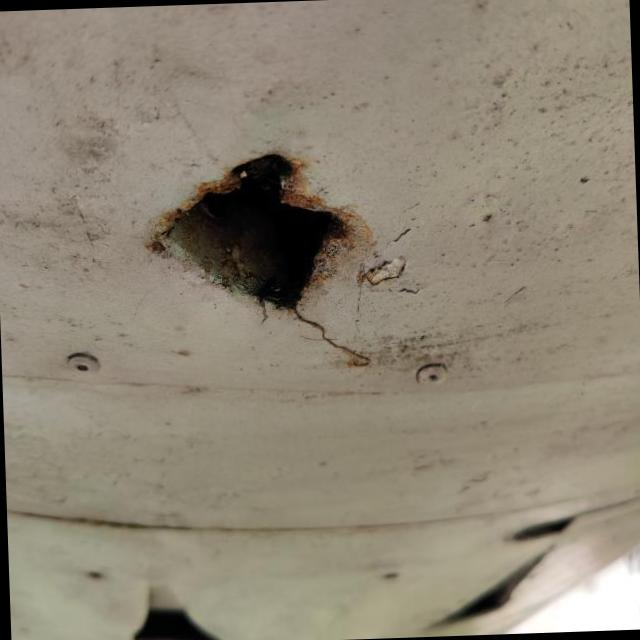Crack: (145, 154, 371, 366)
